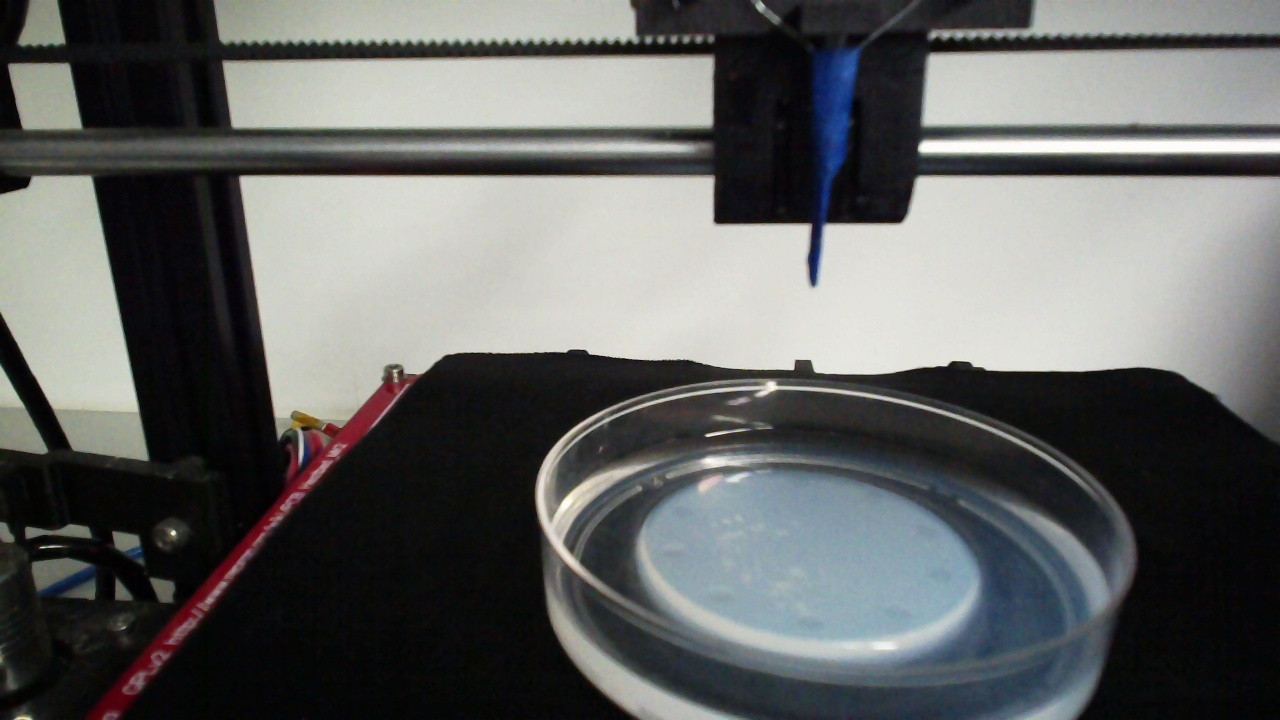groove: (794, 613, 828, 635), (659, 540, 690, 564), (703, 585, 736, 607), (883, 603, 914, 623), (914, 524, 944, 544), (668, 501, 699, 520), (926, 566, 954, 585), (860, 488, 886, 508)
needle: (809, 46, 858, 285)
